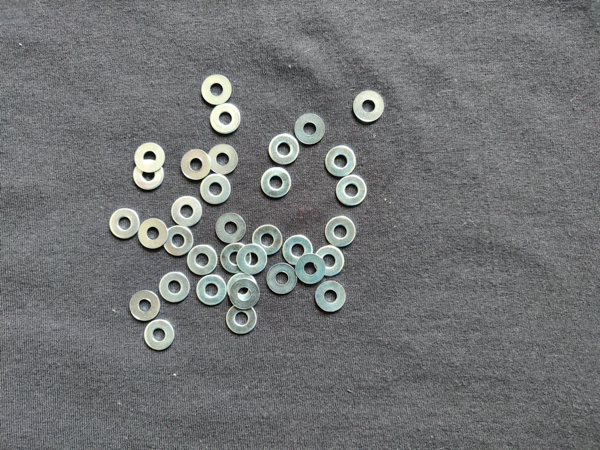circle: (196, 274, 228, 307), (129, 290, 161, 322), (159, 272, 191, 304), (315, 281, 347, 313), (266, 263, 298, 295), (171, 196, 203, 228), (337, 174, 369, 206), (353, 90, 385, 122), (144, 319, 175, 352), (226, 304, 258, 335), (109, 208, 140, 240), (163, 226, 194, 258), (201, 74, 232, 106), (261, 167, 292, 199), (325, 146, 357, 177), (227, 273, 257, 306), (252, 225, 283, 256), (135, 142, 166, 173), (269, 134, 300, 165), (326, 216, 356, 248), (201, 173, 231, 205), (315, 246, 345, 277), (283, 235, 314, 265), (217, 213, 247, 244), (238, 244, 268, 275), (134, 159, 164, 190), (182, 149, 212, 180), (211, 103, 241, 134), (296, 114, 326, 145), (296, 254, 326, 284), (230, 279, 260, 309), (188, 245, 218, 275), (222, 243, 251, 274), (139, 218, 168, 249), (208, 145, 238, 174)
